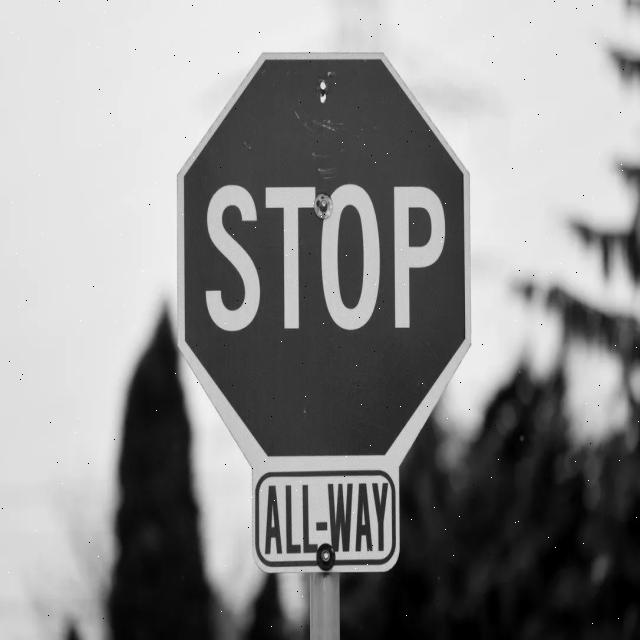Stop-sign: (169, 34, 481, 470)
